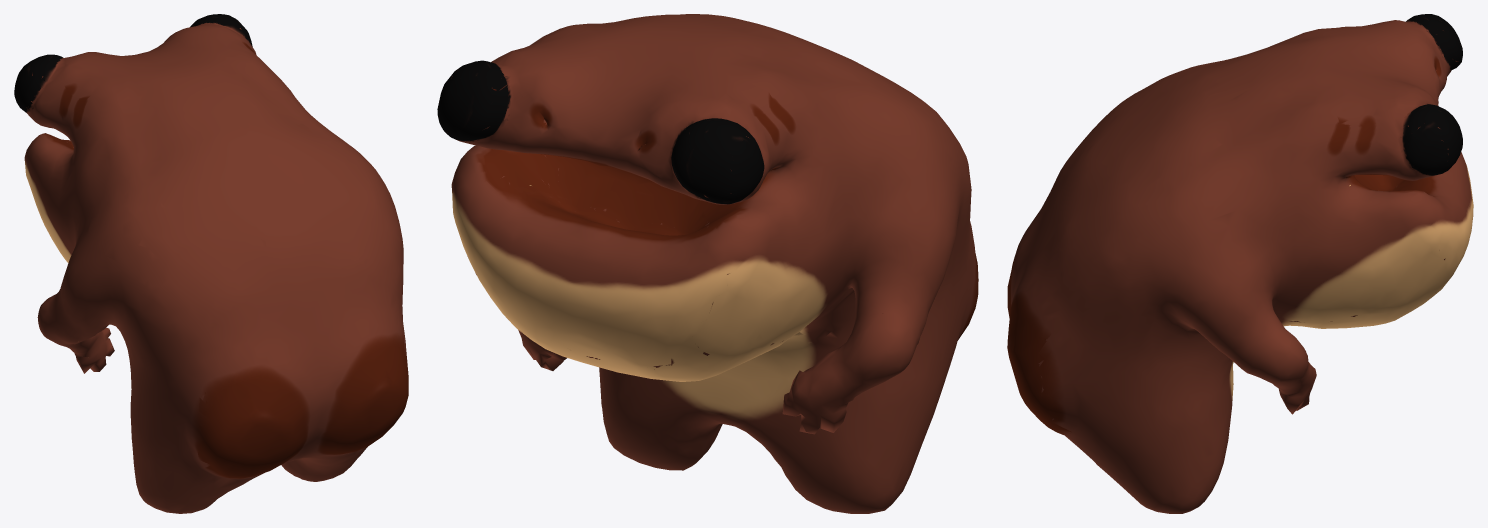
File: mon1.fbx
3 views of the same model, side by side, from view 1: azimuth 30°, elevation 25°; view 2: azimuth 150°, elevation 25°; view 3: azimuth 270°, elevation 25° (orthographic). The views are drawn at different scales.
Parts seen in each view (by area): view 1: Cube; view 2: Cube; view 3: Cube.
Boxes of the visible parts, x1,y1,x2,y2 form: Cube: [14, 14, 408, 513]; Cube: [437, 14, 978, 513]; Cube: [1007, 14, 1473, 513].
Bounding box in the file's own units: 3.04 × 3.41 × 3.49.
Materials: 1 (1 with a texture image).
